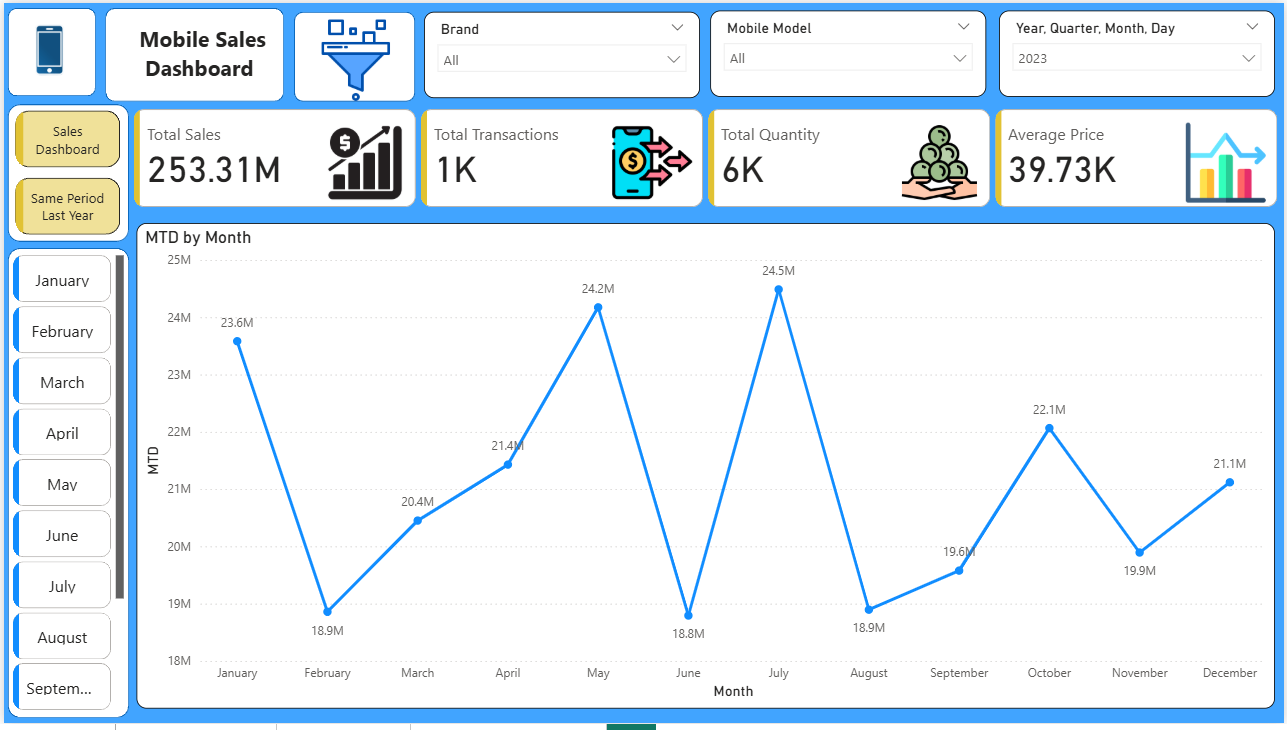

The page's visual inventory and layout, read from the dashboard file:
{"tool":"powerbi","page":{"name":"MTD Report","canvas":[1280,720],"ordinal":1},"visuals":[{"type":"shape","box":[3.7,4.9,88.3,88.3],"z":0},{"type":"image","box":[0,0,90.8,93.3],"z":1000},{"type":"shape","box":[3.8,101.2,121.2,137.5],"z":2000},{"type":"cardVisual","fields":{"Data":["Mobile_Sales_Raw_Data.Total Sales","Mobile_Sales_Raw_Data.Total Transactions","Mobile_Sales_Raw_Data.Total Quantity","Mobile_Sales_Raw_Data.Average Price"]},"box":[125,101.2,1155,108.8],"z":3000},{"type":"slicer","fields":{"Values":["Calendar.Date.Variation.Date Hierarchy.Year","Calendar.Date.Variation.Date Hierarchy.Quarter","Calendar.Date.Variation.Date Hierarchy.Month","Calendar.Date.Variation.Date Hierarchy.Day"]},"box":[995,7.5,276.2,86.2],"z":4000},{"type":"slicer","fields":{"Values":["Mobile_Sales_Raw_Data.Mobile Model"]},"box":[706.2,7.5,276.2,86.2],"z":5000},{"type":"slicer","fields":{"Values":["Mobile_Sales_Raw_Data.Brand"]},"box":[420,8.8,276.2,86.2],"z":6000},{"type":"shape","box":[290,8.8,121.2,90],"z":7000},{"type":"image","box":[305,0,93.8,113.8],"z":8000},{"type":"shape","box":[101.2,5,178.8,93.8],"z":9000},{"type":"textbox","box":[112.5,16.2,157.5,72.5],"z":10000},{"type":"lineChart","fields":{"Category":["Calendar.Date.Variation.Date Hierarchy.Month","Calendar.Date.Variation.Date Hierarchy.Day"],"Y":["Mobile_Sales_Raw_Data.MTD"]},"box":[132.5,219.6,1138.7,485.9],"z":11000},{"type":"shape","box":[3.7,245.4,121.5,469.9],"z":12000},{"type":"advancedSlicerVisual","fields":{"Values":["Calendar.Date.Variation.Date Hierarchy.Month"]},"box":[3.7,247.9,121.5,466.3],"z":13000},{"type":"pageNavigator","box":[11,108,105.5,125.2],"z":13001}]}

Visuals, with their boxes in screenshot pixels (x1, y1, x2, y2), scaled from the page's 1280x720 canvas onto the 1287x730 screenshot:
shape: x1=4 y1=5 x2=93 y2=94
image: x1=0 y1=0 x2=91 y2=95
shape: x1=4 y1=103 x2=126 y2=242
cardVisual - Mobile_Sales_Raw_Data.Total Sales x Mobile_Sales_Raw_Data.Total Transactions: x1=126 y1=103 x2=1286 y2=213
slicer - Calendar.Date.Variation.Date Hierarchy.Year x Calendar.Date.Variation.Date Hierarchy.Quarter: x1=1000 y1=8 x2=1278 y2=95
slicer - Mobile_Sales_Raw_Data.Mobile Model: x1=710 y1=8 x2=988 y2=95
slicer - Mobile_Sales_Raw_Data.Brand: x1=422 y1=9 x2=700 y2=96
shape: x1=292 y1=9 x2=413 y2=100
image: x1=307 y1=0 x2=401 y2=115
shape: x1=102 y1=5 x2=282 y2=100
textbox: x1=113 y1=16 x2=271 y2=90
lineChart - Calendar.Date.Variation.Date Hierarchy.Month x Calendar.Date.Variation.Date Hierarchy.Day: x1=133 y1=223 x2=1278 y2=715
shape: x1=4 y1=249 x2=126 y2=725
advancedSlicerVisual - Calendar.Date.Variation.Date Hierarchy.Month: x1=4 y1=251 x2=126 y2=724
pageNavigator: x1=11 y1=110 x2=117 y2=236
